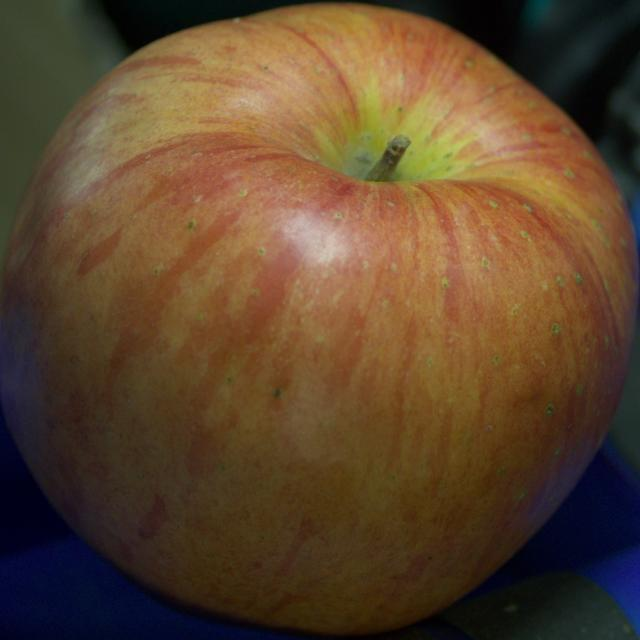apple: (0, 3, 639, 634)
